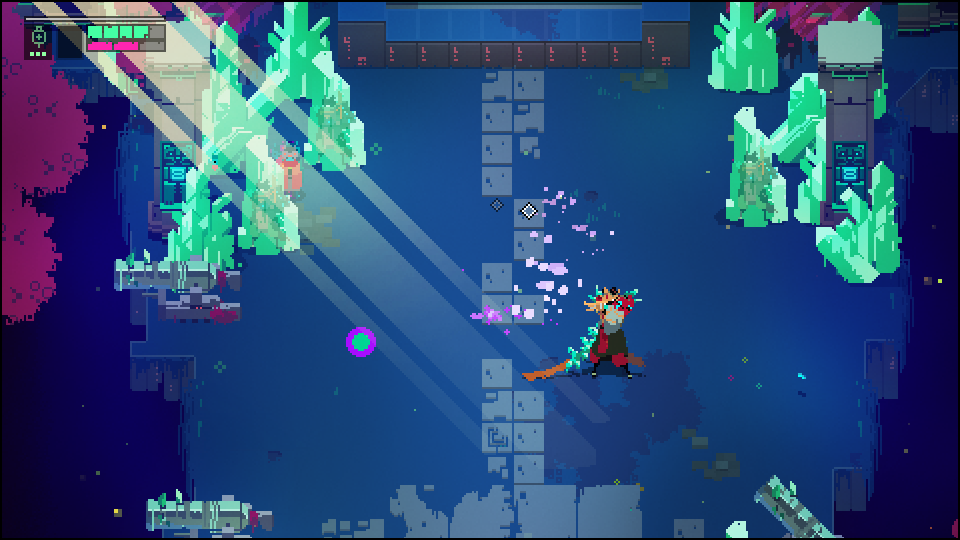hanged_man: (566, 285, 646, 379)
hanged_shot: (343, 326, 376, 361)
player: (278, 146, 302, 201)
